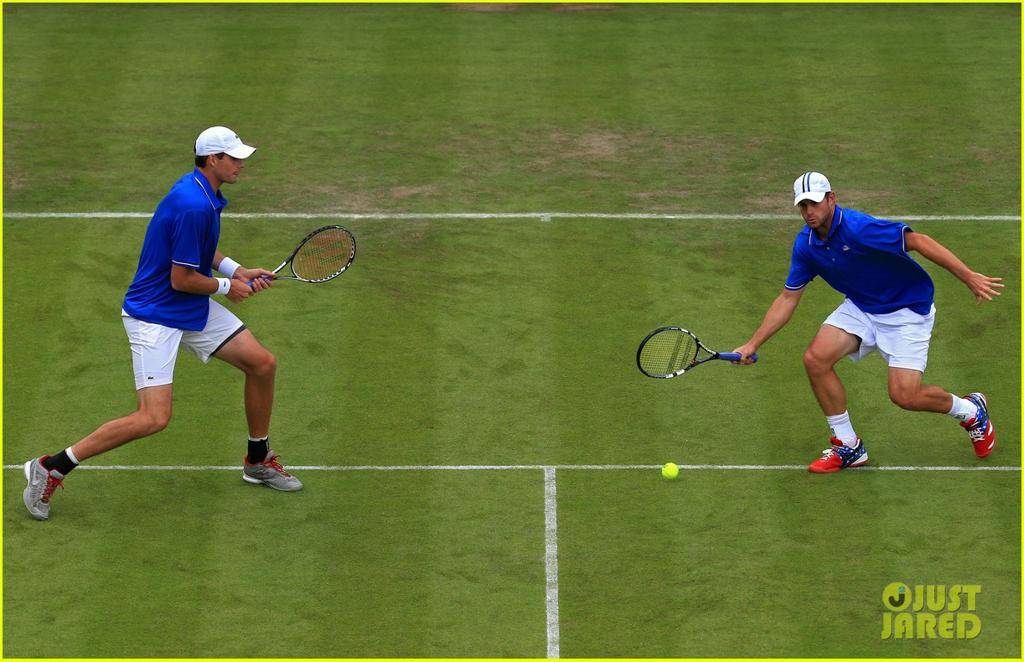face: (798, 192, 829, 228), (217, 146, 243, 183)
